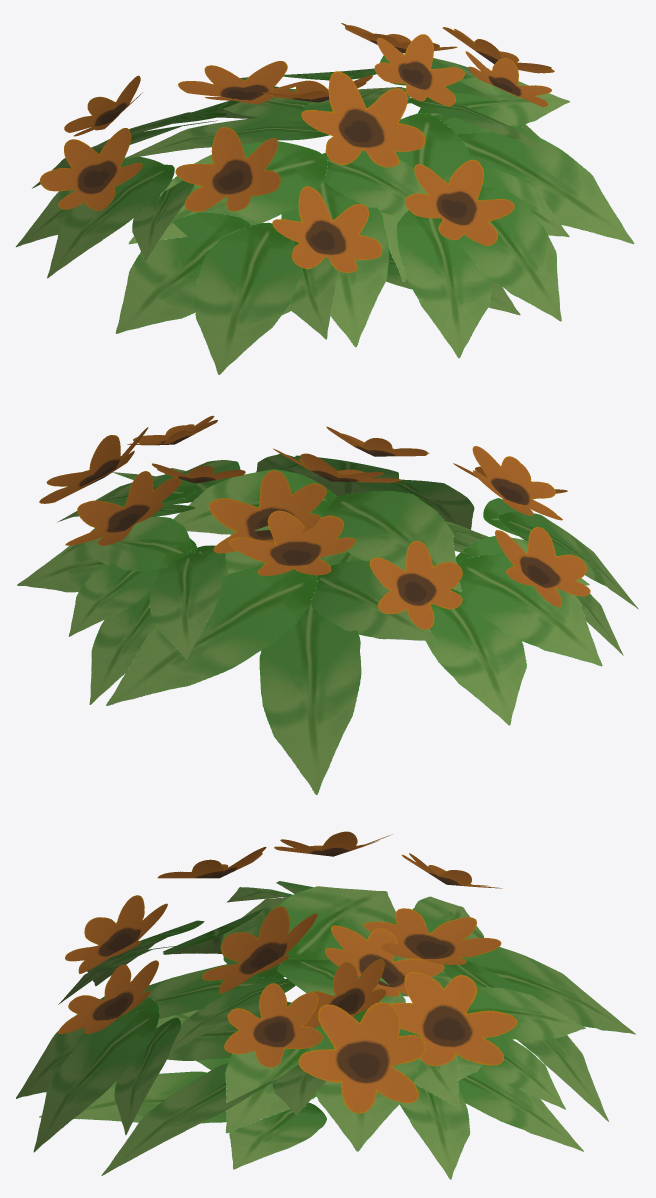
File: SM_Yellow_02.fbx
The picture shows the model from 3 angles, top to bottom: view 1: azimuth 30°, elevation 25°; view 2: azimuth 150°, elevation 25°; view 3: azimuth 270°, elevation 25°; orthographic projection. The views are drawn at different scales.
Visible parts, largest first — view 1: Bush_Yellow_2; view 2: Bush_Yellow_2; view 3: Bush_Yellow_2.
Part boxes in pixels (box(x1,y1,x2,y2)): Bush_Yellow_2: box(16, 23, 634, 374); Bush_Yellow_2: box(17, 415, 638, 794); Bush_Yellow_2: box(16, 831, 635, 1179).
Bounding box in the file's own units: 126 × 45.35 × 118.
1 material, 1 textured.
